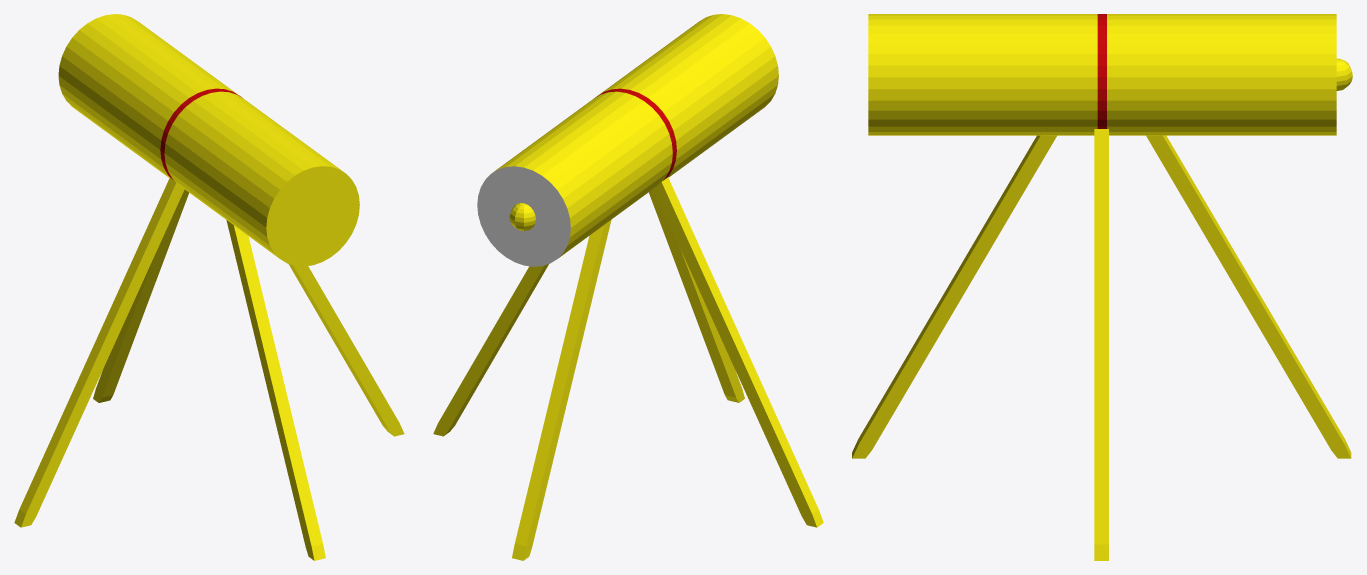
Rendered from laserY.obj.
3 renders of one model, left to right at view 1: azimuth 30°, elevation 25°; view 2: azimuth 150°, elevation 25°; view 3: azimuth 270°, elevation 25°, orthographic. The views are drawn at different scales.
Parts seen in each view (by area): view 1: laserY_Конус.020; view 2: laserY_Конус.020; view 3: laserY_Конус.020.
Boxes of the visible parts, x1,y1,x2,y2 form: laserY_Конус.020: (14,14,404,560); laserY_Конус.020: (433,14,823,560); laserY_Конус.020: (852,14,1352,560).
Size of the model in its own units: 0.1113 by 0.1073 by 0.1117.
